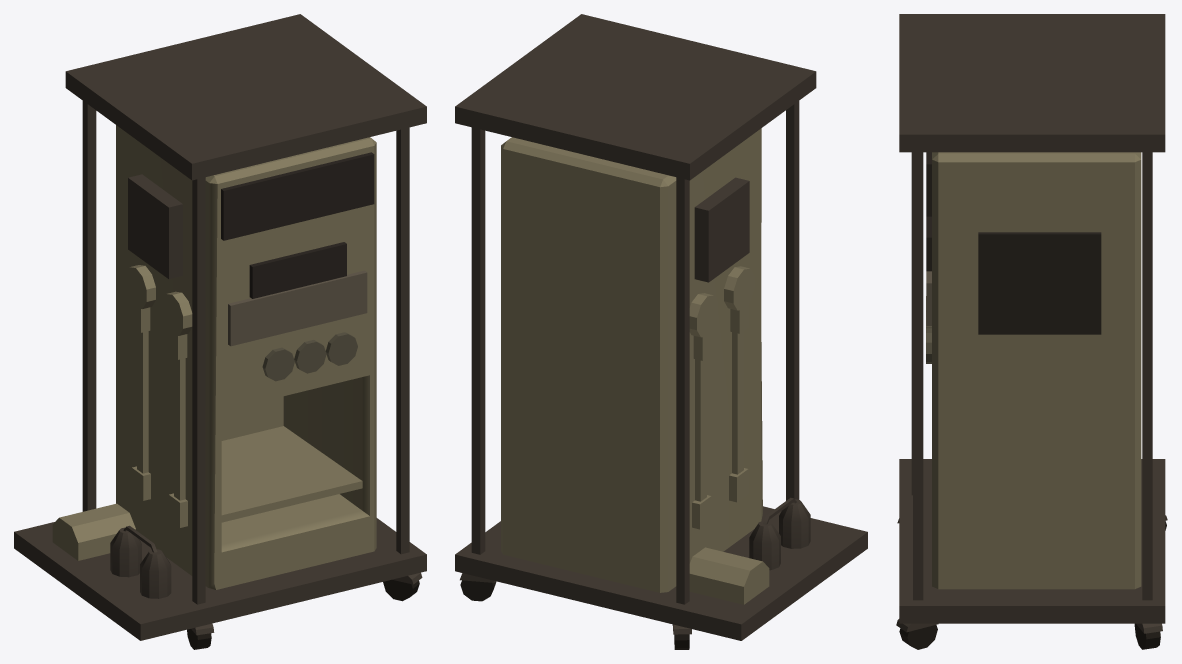
Rendered from left thing in piperoom.fbx.
The picture shows the model from 3 angles, left to right: view 1: azimuth 30°, elevation 25°; view 2: azimuth 150°, elevation 25°; view 3: azimuth 270°, elevation 25°; orthographic projection. The views are drawn at different scales.
Visible parts, largest first — view 1: pCylinder17; view 2: pCylinder17; view 3: pCylinder17.
Part boxes in pixels (<box>): pCylinder17: <box>14,14,426,649</box>; pCylinder17: <box>455,14,867,649</box>; pCylinder17: <box>896,14,1167,649</box>.
Size of the model in its own units: 6.79 by 11.12 by 5.27.
